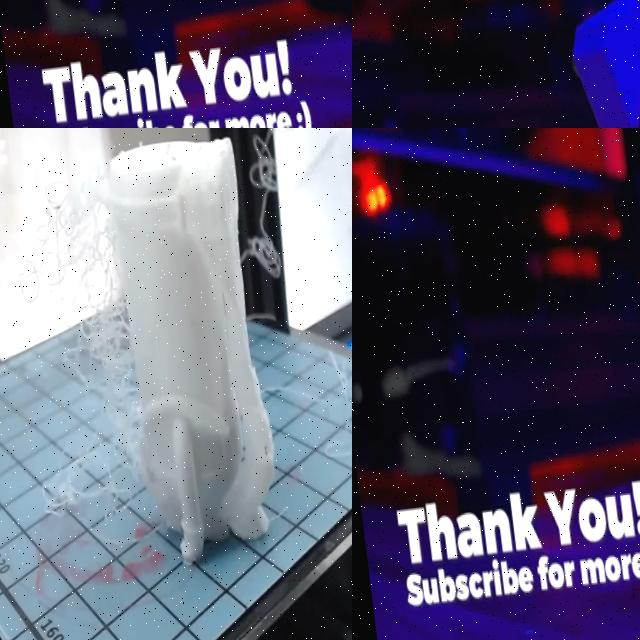spaghetti: (0, 128, 165, 554), (222, 128, 352, 492)
